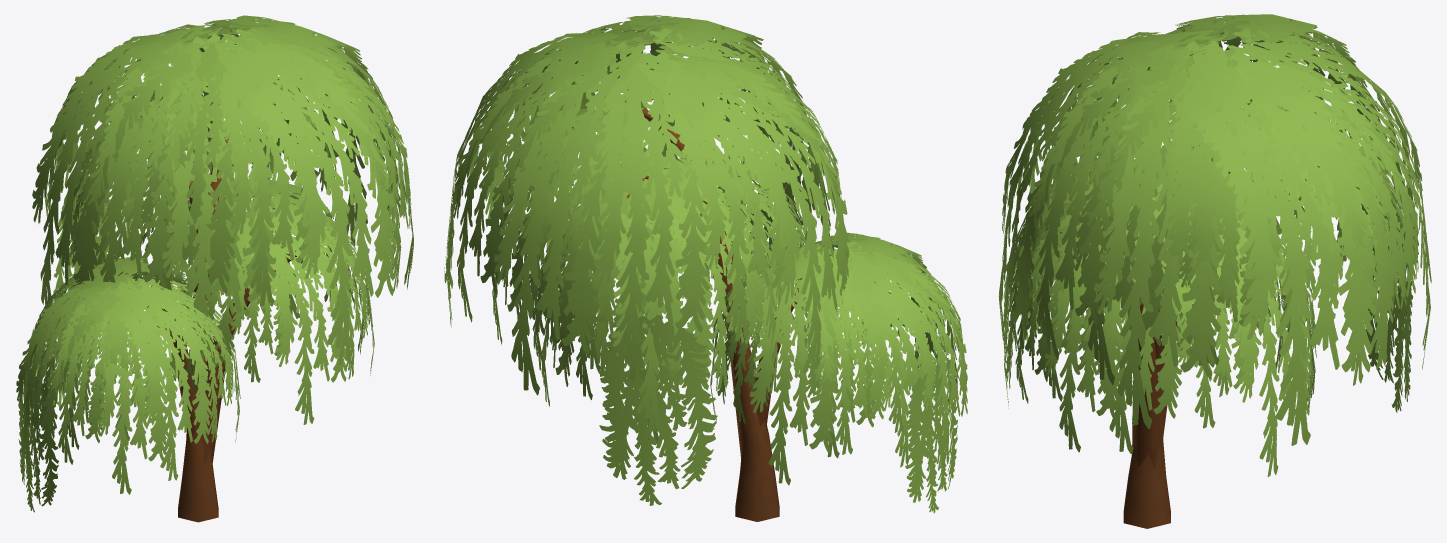
Rendered from STWillow1.glb.
3 views of the same model, side by side, from view 1: azimuth 30°, elevation 25°; view 2: azimuth 150°, elevation 25°; view 3: azimuth 270°, elevation 25° (orthographic). The views are drawn at different scales.
Parts seen in each view (by area): view 1: STWillow1_Leaves, STWillow1_Trunk; view 2: STWillow1_Leaves, STWillow1_Trunk; view 3: STWillow1_Leaves, STWillow1_Trunk.
Part boxes in pixels (box(x1,y1,x2,y2)): STWillow1_Leaves: box(16, 15, 413, 512); STWillow1_Trunk: box(135, 78, 335, 522); STWillow1_Leaves: box(444, 15, 967, 513); STWillow1_Trunk: box(625, 100, 801, 521); STWillow1_Leaves: box(998, 14, 1431, 476); STWillow1_Trunk: box(1123, 122, 1336, 528).
Size of the model in its own units: 13.7 by 14.19 by 10.82.
Materials: 2 (2 with a texture image).
